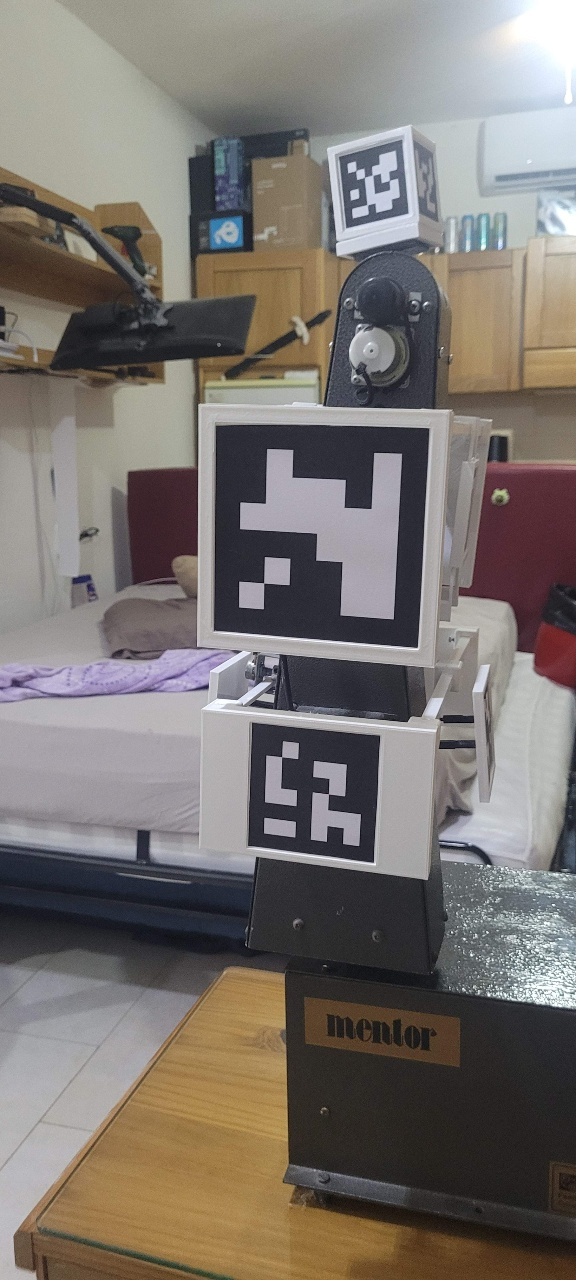Robot: (190, 121, 497, 986)
